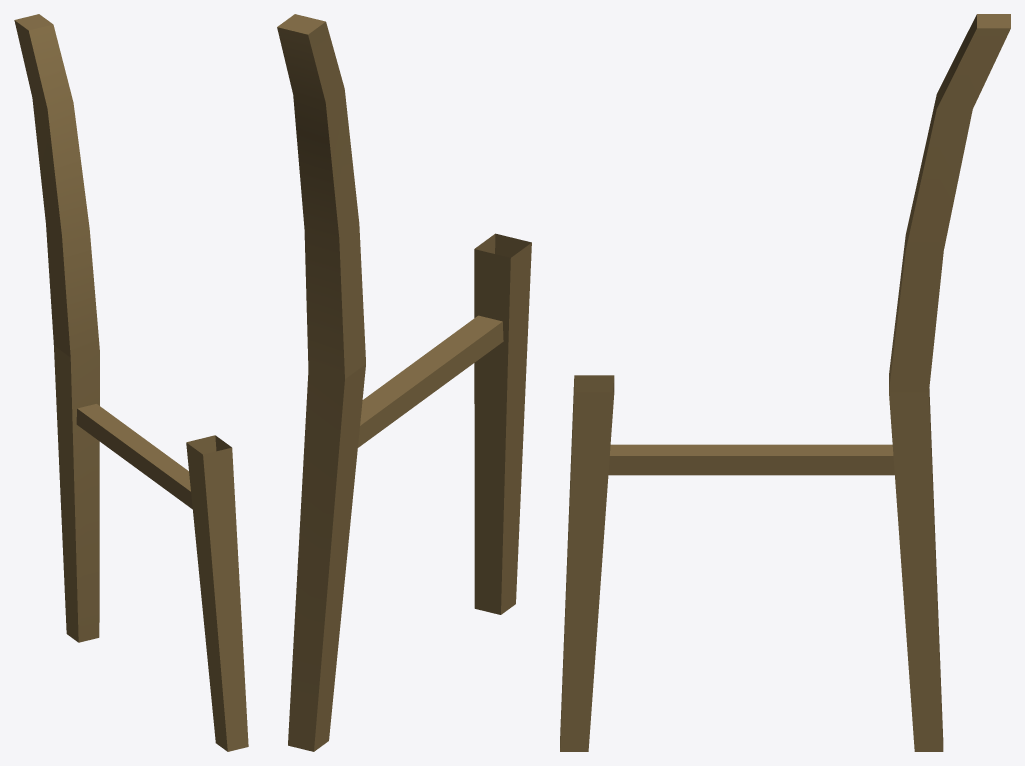
Rendered from Itr_Chair3_Leg_Right_01.FBX.
3 views of the same model, side by side, from view 1: azimuth 30°, elevation 25°; view 2: azimuth 150°, elevation 25°; view 3: azimuth 270°, elevation 25° (orthographic). The views are drawn at different scales.
Visible parts, largest first — view 1: Itr_Chair3_Leg_Right_01; view 2: Itr_Chair3_Leg_Right_01; view 3: Itr_Chair3_Leg_Right_01.
Part boxes in pixels (x1,y1,x2,y2): Itr_Chair3_Leg_Right_01: (14, 14, 248, 751); Itr_Chair3_Leg_Right_01: (277, 14, 531, 751); Itr_Chair3_Leg_Right_01: (560, 14, 1010, 751).
Size of the model in its own units: 3.08 by 39.55 by 22.7.
